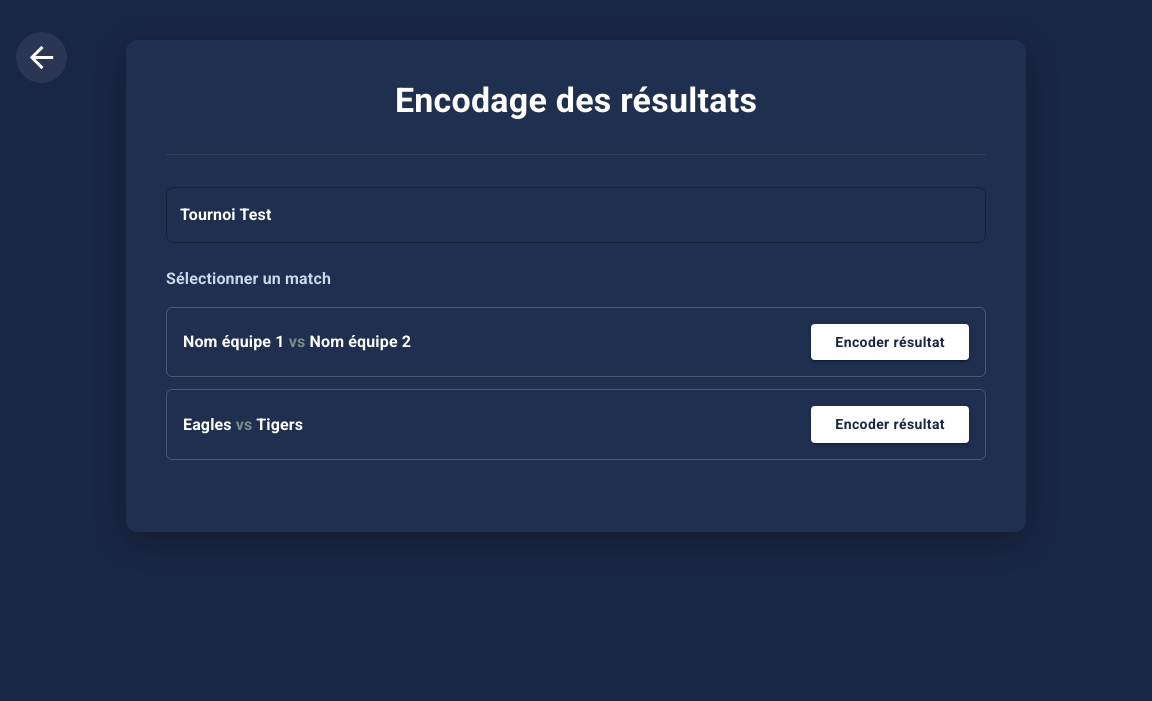
Scenario: ResultEncodingPage › affiche le formulaire de score quand on clique sur Encoder résultat
Click the button "Encoder résultat" in the row of "Nom équipe 2".
click(890, 342)  # box top-left (811, 324), bottom-right (969, 360)
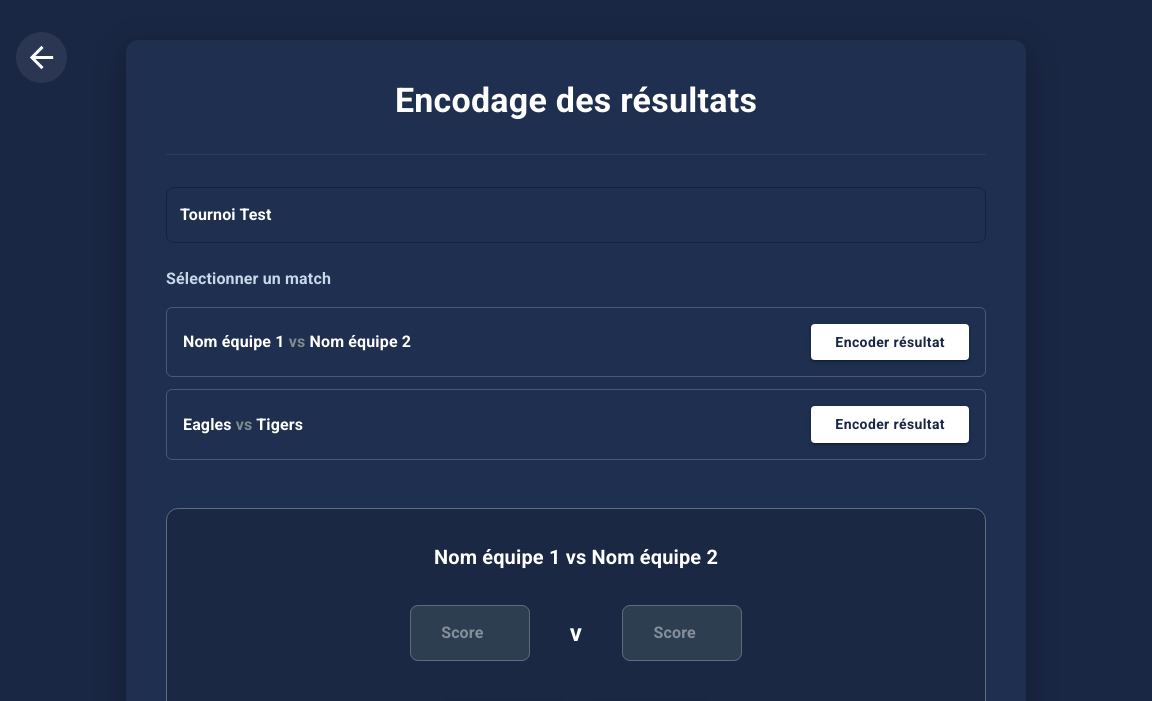
Expected: the heading "Nom équipe 1 vs Nom équipe 2" is shown, top-left (434, 545), bottom-right (718, 569)
